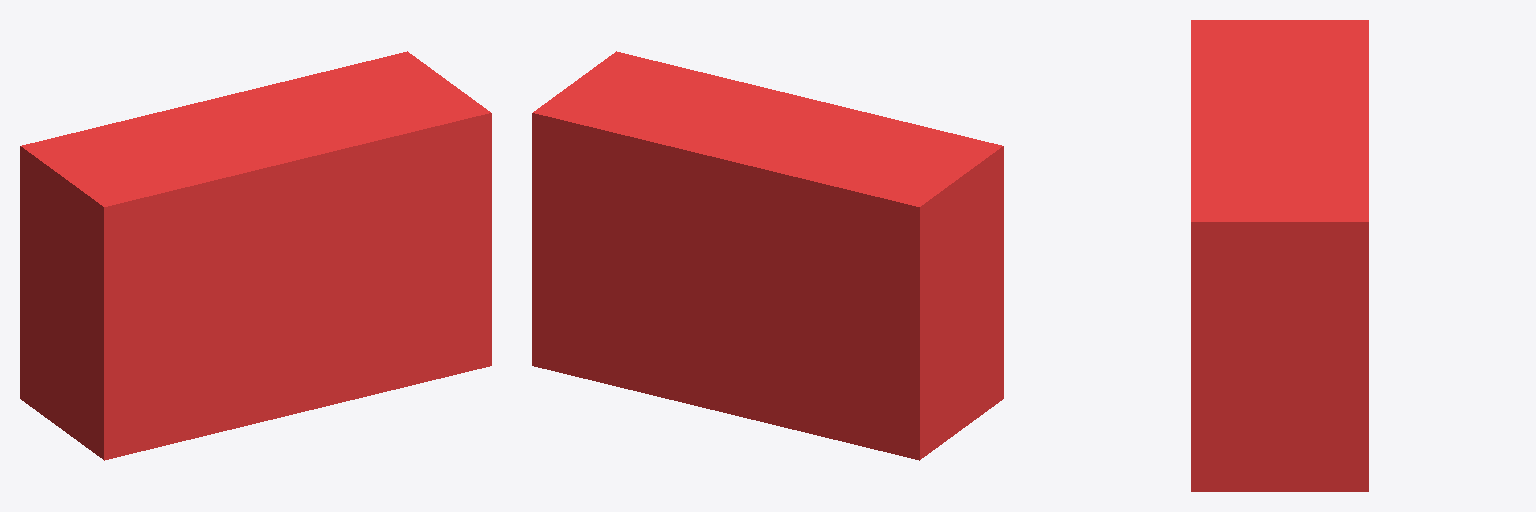
URDF robot description (object):
<?xml version="1.0"?>
<robot name="object">
  <link name="object">
    <visual>
      <origin xyz="0 0 0"/>
      <geometry>
        <!-- 细长型: 长(x)=0.08, 宽(y)=0.03, 高(z)=0.05 -->
        <box size="0.08 0.03 0.05"/>
      </geometry>
      <material name="color1">
        <color rgba="1.0 0.3 0.3 1.0"/>
      </material>
    </visual>
    <collision>
      <origin xyz="0 0 0"/>
      <geometry>
        <box size="0.08 0.03 0.05"/>
      </geometry>
    </collision>
    <inertial>
      <density value="567.0"/>
    </inertial>
  </link>
</robot>

--- Facts derived from the render (not from the file) ---
Views: 3 orthographic renders of the robot side by side, from view 1: azimuth 30°, elevation 25°; view 2: azimuth 150°, elevation 25°; view 3: azimuth 270°, elevation 25°.
Model object with 1 links and 0 joints (none), rooted at object, posed every joint at zero.
Visible links, largest first — view 1: object; view 2: object; view 3: object.
Boxes of the visible links, bbox=[...] form: object: bbox=[20, 51, 491, 460]; object: bbox=[532, 51, 1003, 460]; object: bbox=[1191, 20, 1368, 491].
Bounding box of the posed robot: 0.08 × 0.03 × 0.05 m (x, y, z).
Geometry: primitives only (box / cylinder / sphere), no mesh files.